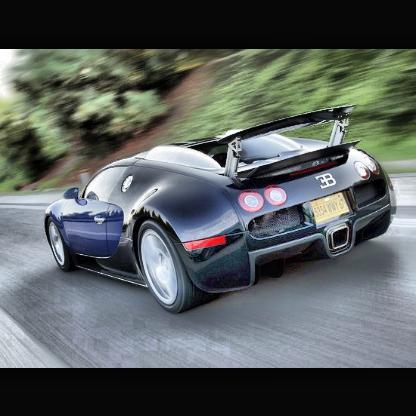Bugatti Veyron 16-4 Coupe 2009: (45, 103, 399, 313)
